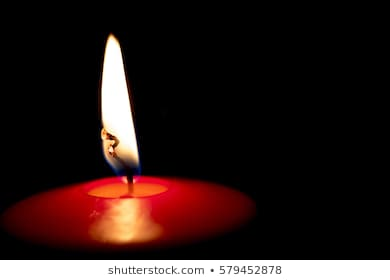Fire: (97, 32, 144, 180)
